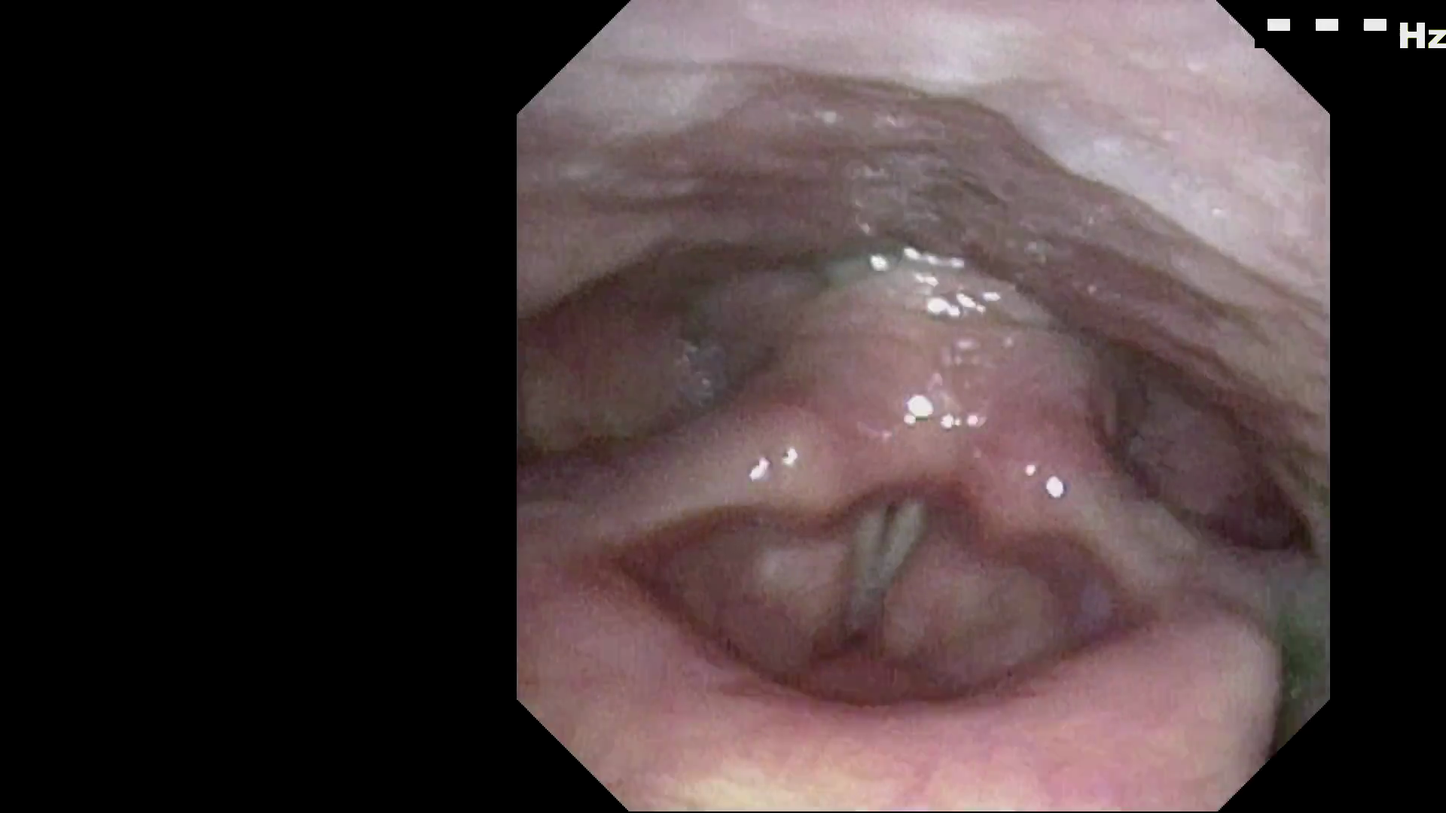epiglottis: (624, 586, 1220, 788)
trachea: (837, 485, 932, 593)
